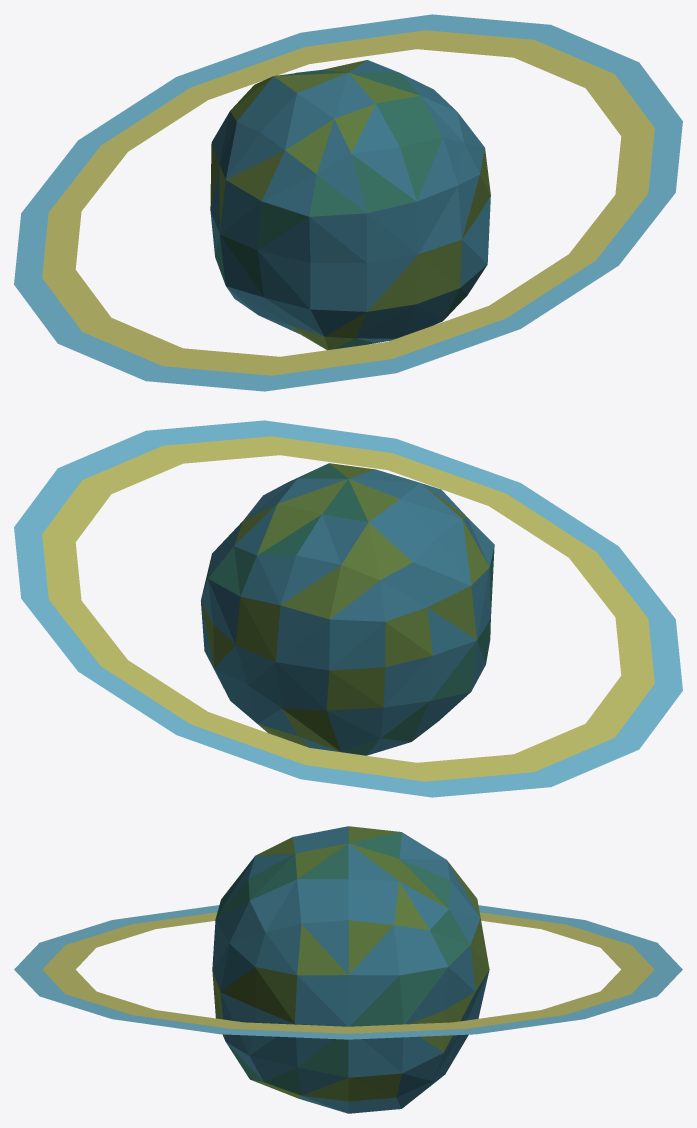
The model's file is Planet.glb.
3 renders of one model, top to bottom at view 1: azimuth 30°, elevation 25°; view 2: azimuth 150°, elevation 25°; view 3: azimuth 270°, elevation 25°, orthographic. The views are drawn at different scales.
Parts seen in each view (by area): view 1: Lo_poly_Planet_03_by_Liz_Reddington1; view 2: Lo_poly_Planet_03_by_Liz_Reddington1; view 3: Lo_poly_Planet_03_by_Liz_Reddington1.
Boxes of the visible parts, box(x1,y1,x2,y2) form: Lo_poly_Planet_03_by_Liz_Reddington1: box(14, 14, 682, 391); Lo_poly_Planet_03_by_Liz_Reddington1: box(14, 420, 682, 797); Lo_poly_Planet_03_by_Liz_Reddington1: box(14, 826, 682, 1113).
Bounding box in the file's own units: 589 × 255 × 604.
